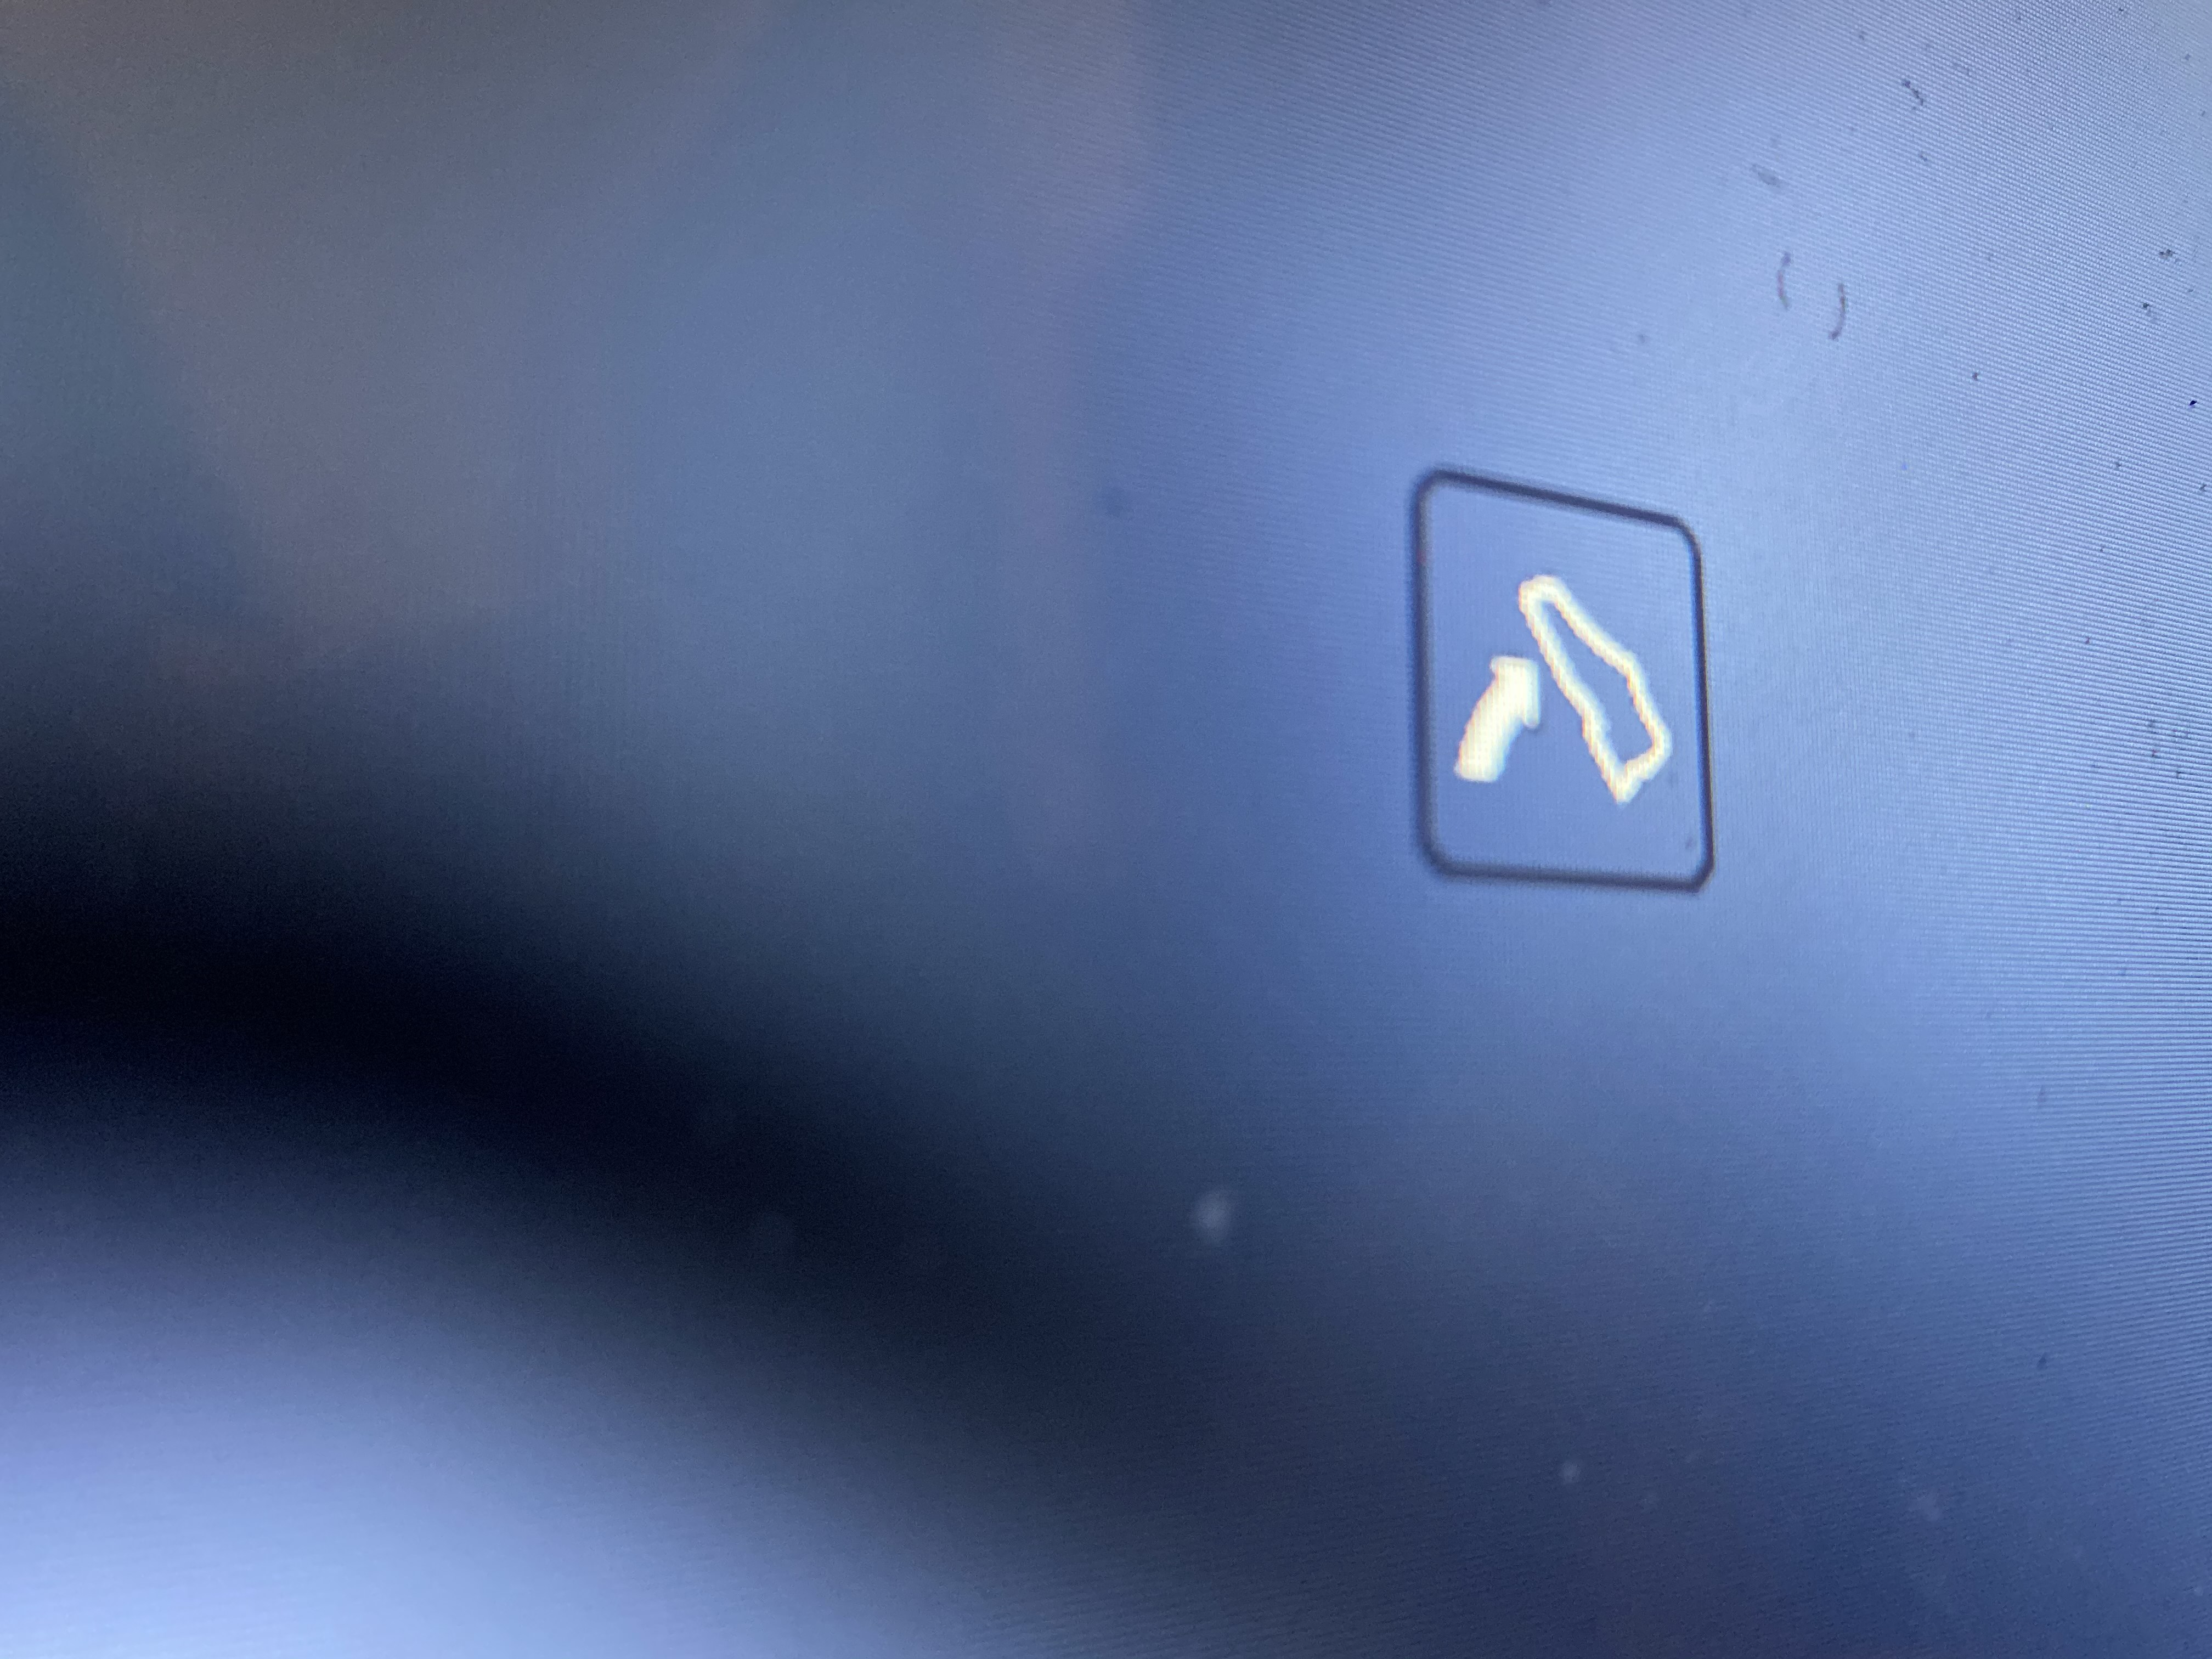ACCELERATOR_R: (1360, 413, 1797, 931)
